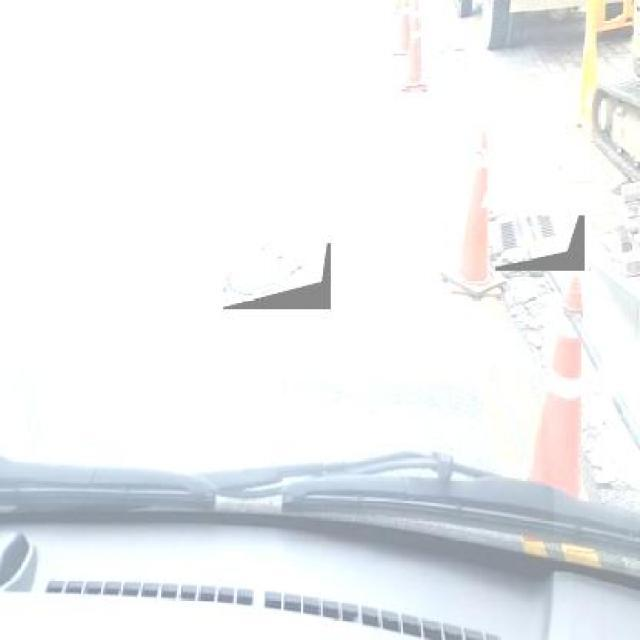Manhole: (223, 243, 331, 309), (496, 216, 584, 270)
